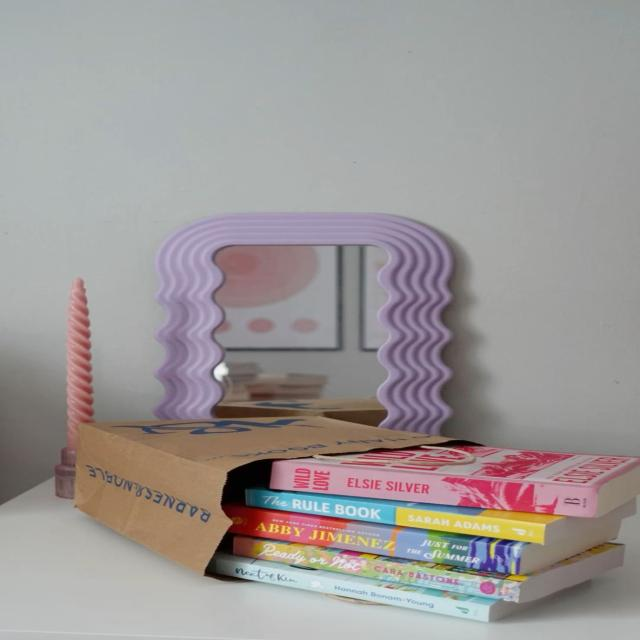book: (216, 555, 532, 621), (231, 538, 527, 607), (228, 507, 523, 575), (245, 489, 565, 544), (272, 464, 599, 517)
candle: (55, 279, 93, 499)
